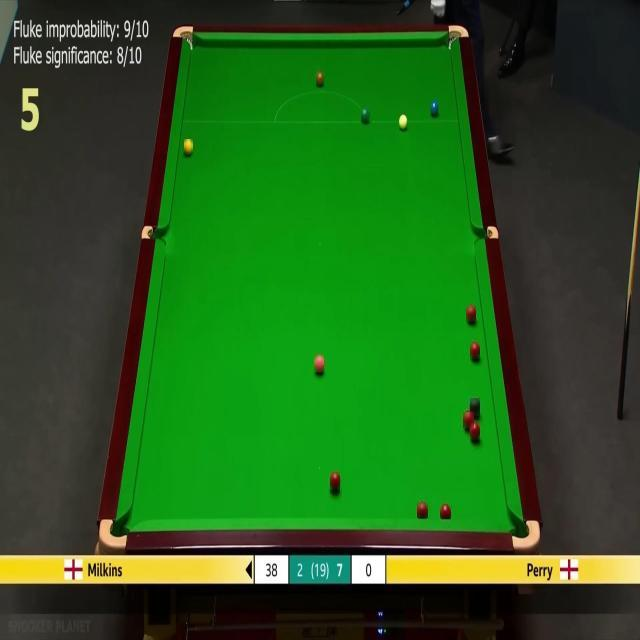Ball: (330, 472, 340, 492), (314, 354, 324, 372), (470, 422, 480, 440), (470, 398, 480, 416), (417, 502, 428, 518), (463, 412, 474, 428), (470, 342, 480, 359), (466, 306, 476, 322), (440, 504, 451, 518), (184, 140, 193, 156), (399, 114, 407, 130), (316, 71, 324, 85), (431, 100, 438, 115), (362, 109, 369, 122)
